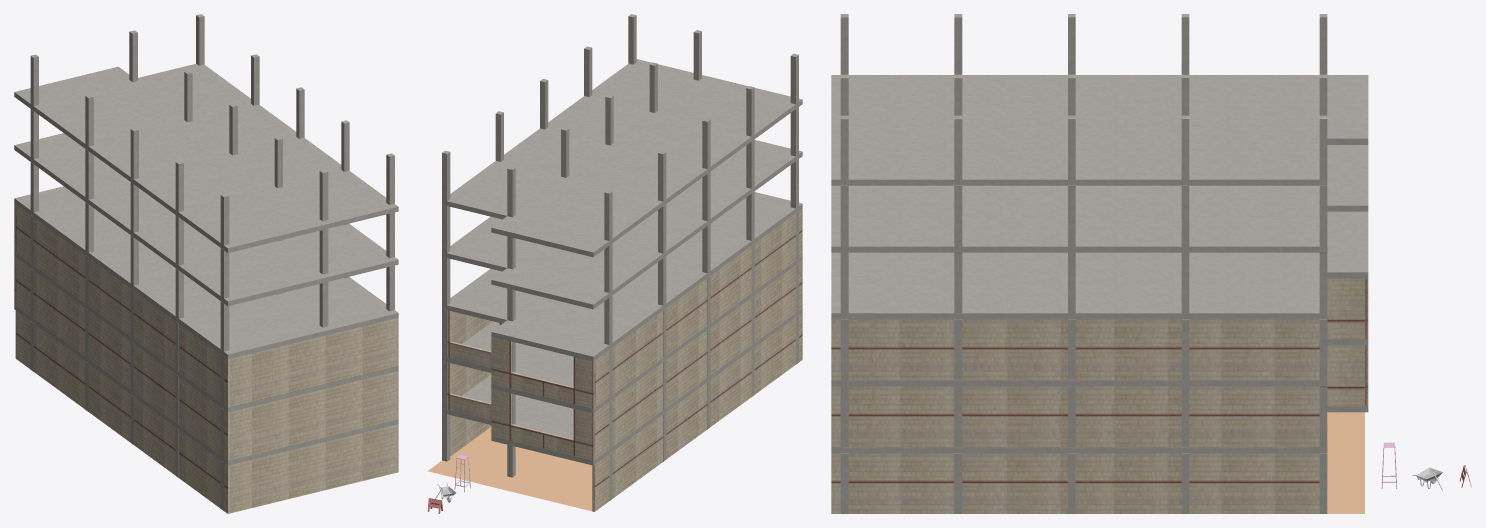
The model's file is SM_Construction_Building_02.fbx.
The picture shows the model from 3 angles, left to right: view 1: azimuth 30°, elevation 25°; view 2: azimuth 150°, elevation 25°; view 3: azimuth 270°, elevation 25°; orthographic projection. The views are drawn at different scales.
Parts seen in each view (by area): view 1: predio.bake; view 2: predio.bake, piso; view 3: predio.bake, piso.
Boxes of the visible parts, x1,y1,x2,y2 form: predio.bake: (14, 14, 398, 513); predio.bake: (442, 14, 802, 511); piso: (427, 427, 592, 511); predio.bake: (831, 14, 1368, 513); piso: (1327, 412, 1364, 513).
Size of the model in its own units: 11.12 by 28.66 by 19.5.
